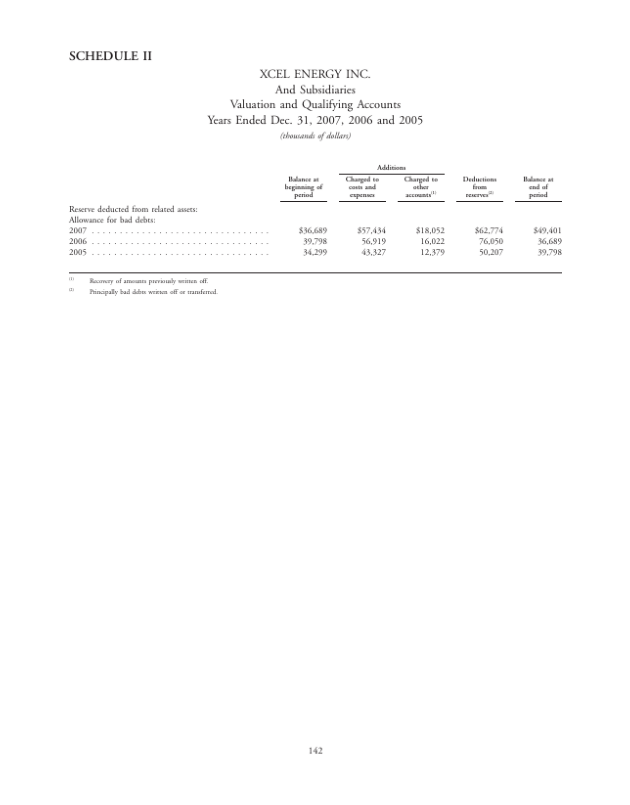table: (282, 159, 567, 268)
